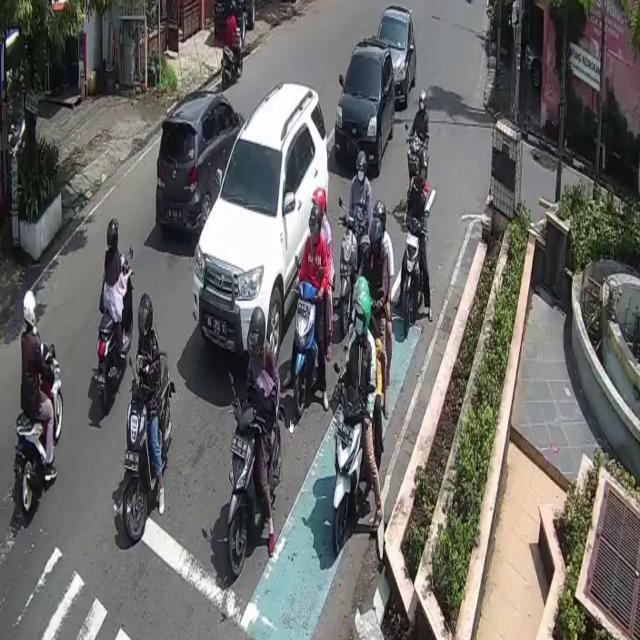bus: (228, 375, 280, 578), (13, 344, 63, 520), (128, 350, 174, 541), (98, 251, 133, 416), (334, 386, 366, 552), (296, 280, 318, 417), (404, 213, 426, 335), (338, 216, 358, 335)
motorcycle: (192, 80, 328, 374), (157, 91, 244, 238), (334, 39, 395, 177), (374, 5, 417, 107)
